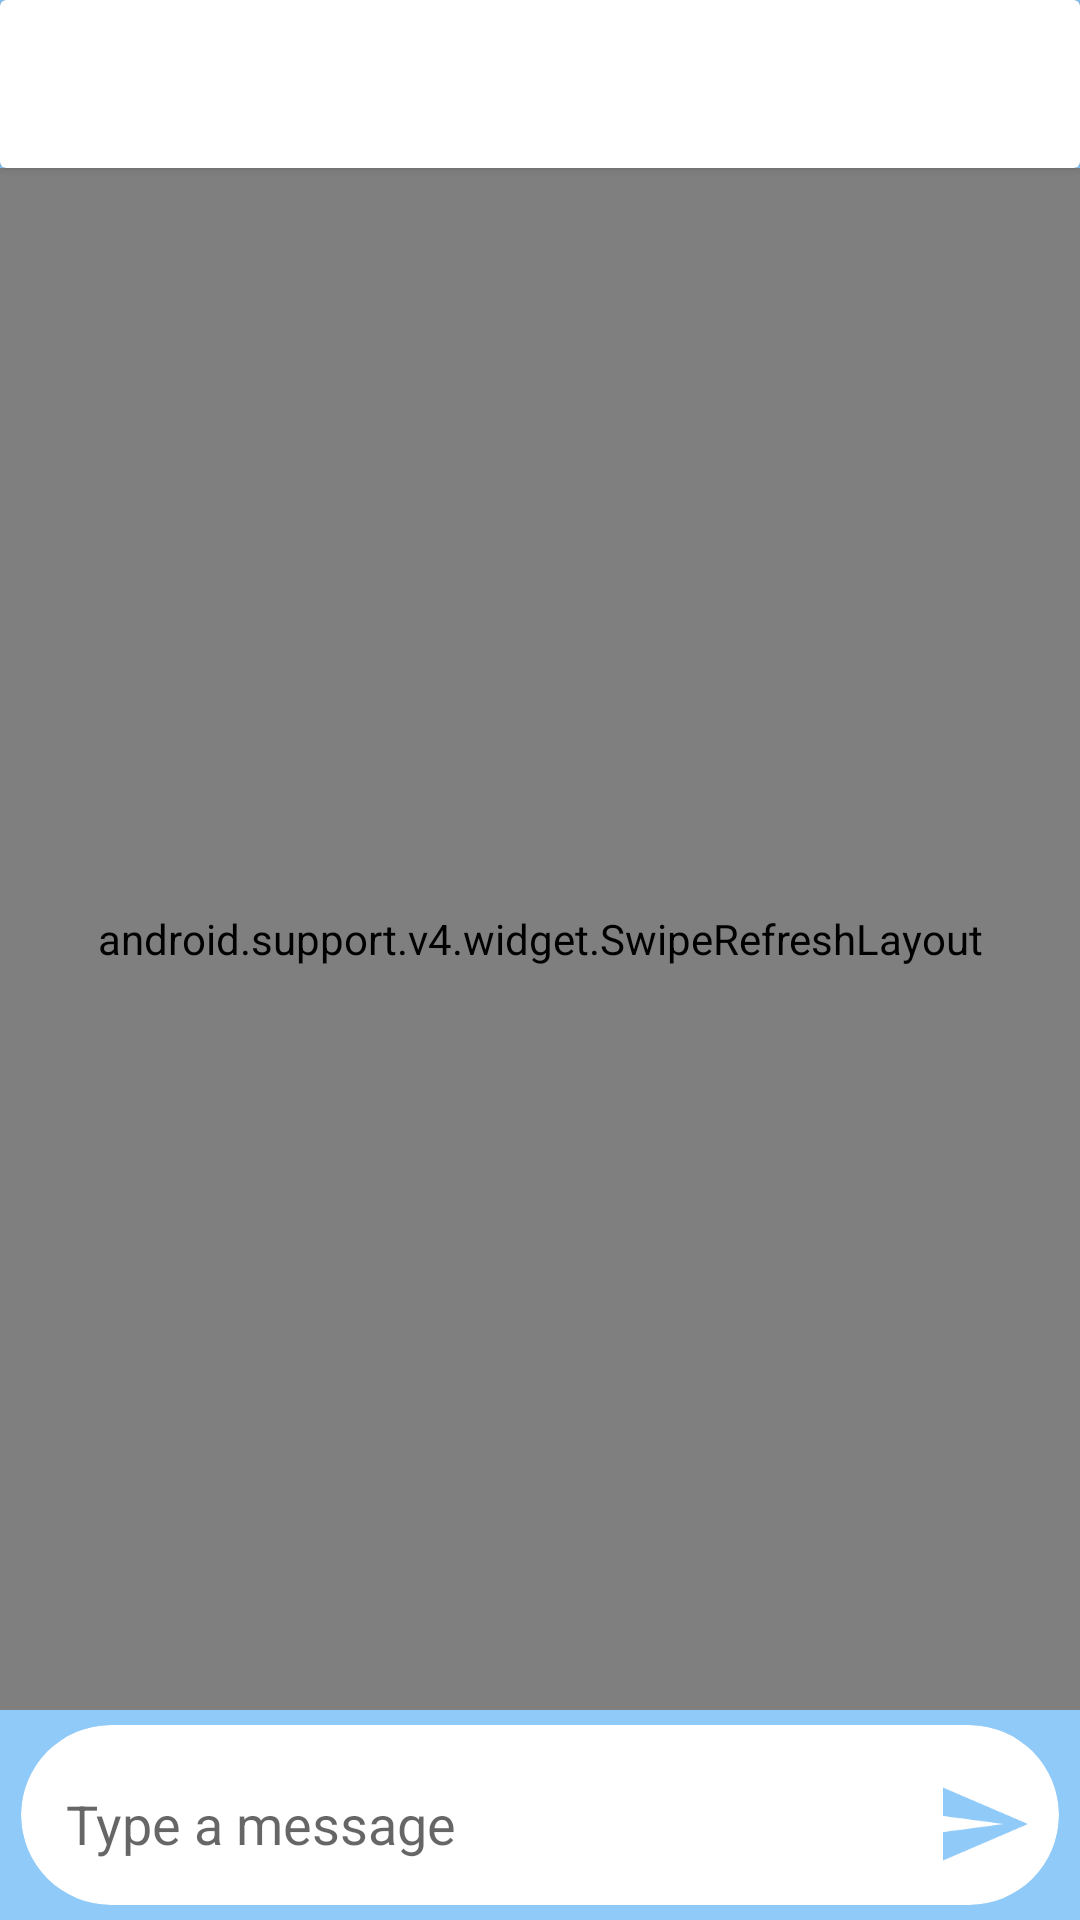

Point at icon controls on the screen. Image size 1080w x 1920h, points as [x,y].
send: [985,1824]
